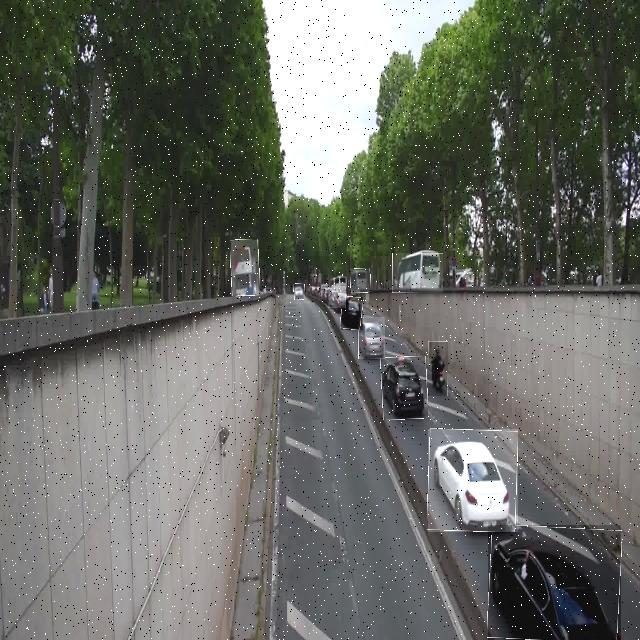Bus: (392, 253, 443, 293), (231, 240, 259, 296), (351, 269, 371, 293)
Car: (488, 525, 621, 640), (428, 429, 518, 532), (381, 357, 428, 419), (358, 317, 385, 359), (341, 297, 363, 330), (328, 286, 346, 308), (294, 283, 305, 300)
Motorcycle: (428, 341, 448, 396)
